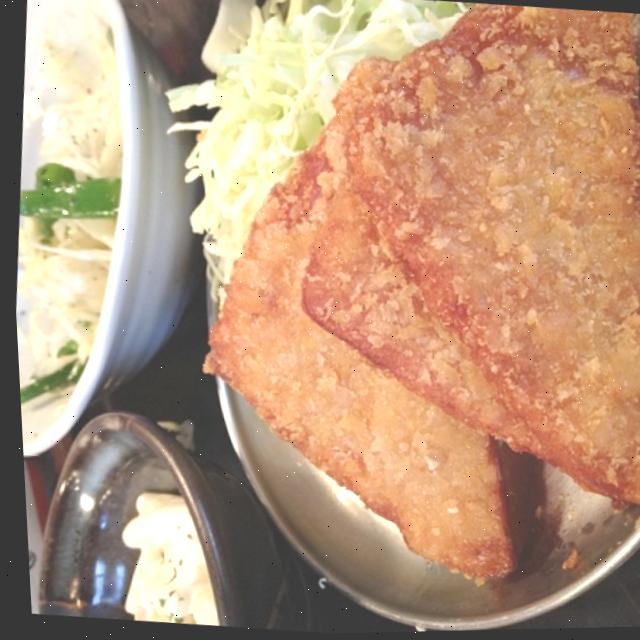炸货点心: (153, 0, 640, 621)
